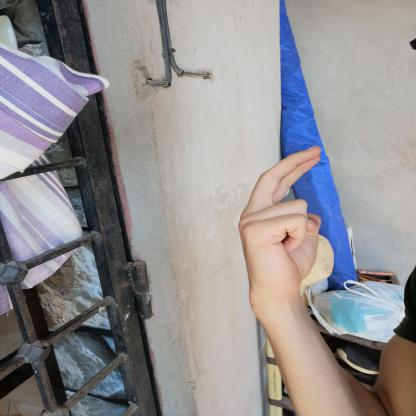ZAY: (226, 137, 332, 309)
